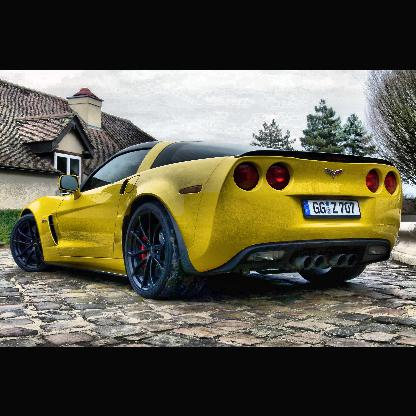Chevrolet Corvette Convertible 2012: (11, 141, 404, 299)
